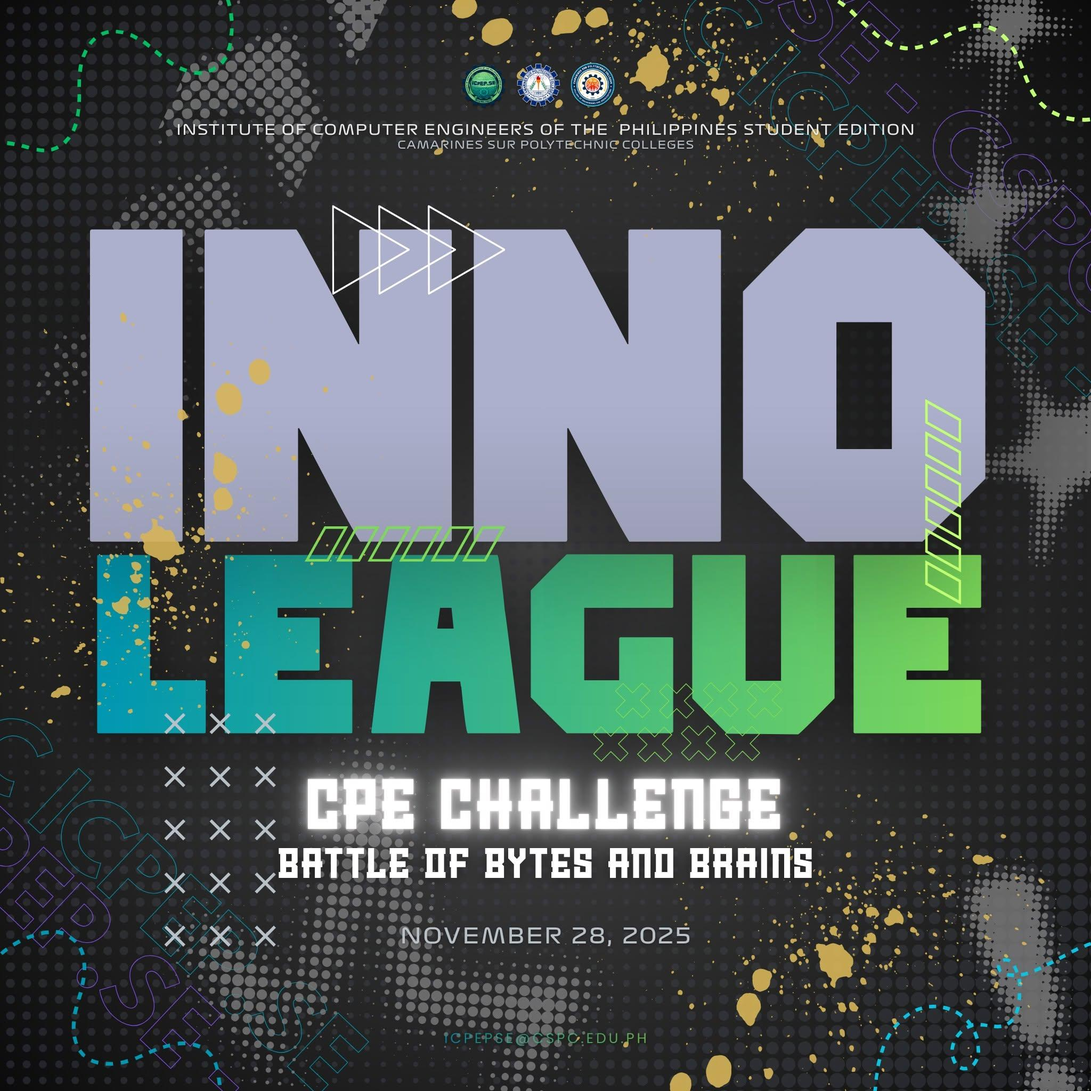embellishment: (162, 712, 276, 947), (331, 205, 505, 296), (591, 681, 760, 764), (923, 400, 962, 604), (306, 526, 503, 562)
logo: (516, 61, 560, 107), (571, 61, 615, 107), (463, 63, 503, 105)
text: (91, 230, 985, 542), (97, 555, 981, 733), (308, 778, 780, 829), (178, 123, 914, 150), (279, 848, 812, 878), (402, 927, 689, 948), (444, 1032, 647, 1043)
